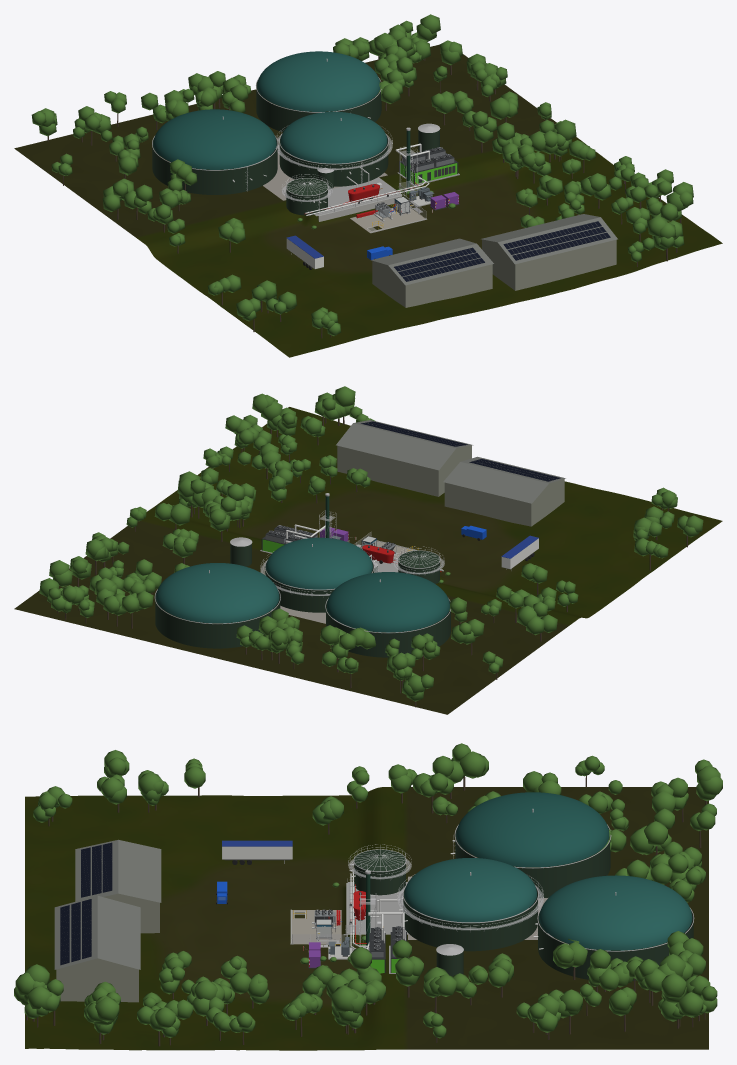
Rendered from bryn_blox.glb.
The picture shows the model from 3 angles, top to bottom: view 1: azimuth 30°, elevation 25°; view 2: azimuth 150°, elevation 25°; view 3: azimuth 270°, elevation 25°; orthographic projection. The views are drawn at different scales.
Visible parts, largest first — view 1: web_terrain, tank_c_dome, tank_b_dome, tank_main_dome, shed1_walls, shed0_walls, tank_b_wall, tank_main_wall, shed1_roofS, tank_c_wall, shed0_roofS, upper_slab (+6 smaller); view 2: web_terrain, tank_c_dome, tank_b_dome, tank_main_dome, shed1_walls, shed0_walls, shed1_roofN, tank_c_wall, shed0_roofN, tank_b_wall, tank_main_wall, tank_small_roof; view 3: web_terrain, tank_b_dome, tank_c_dome, tank_main_dome, tank_main_wall, shed1_roofN, shed0_roofN, shed1_walls, tank_b_wall, tank_c_wall, upper_slab, shed1_roofS (+13 smaller).
Part boxes in pixels (x1,y1,x2,y2): web_terrain: [14, 44, 722, 357]; tank_c_dome: [257, 51, 380, 111]; tank_b_dome: [153, 109, 276, 169]; tank_main_dome: [280, 111, 387, 163]; shed1_walls: [482, 239, 616, 290]; shed0_walls: [372, 260, 492, 307]; tank_b_wall: [152, 139, 277, 194]; tank_main_wall: [279, 136, 388, 186]; shed1_roofS: [498, 217, 617, 264]; tank_c_wall: [256, 81, 381, 132]; shed0_roofS: [388, 243, 493, 285]; upper_slab: [314, 177, 402, 216]; web_terrain: [14, 407, 722, 714]; tank_c_dome: [156, 563, 279, 623]; tank_b_dome: [327, 572, 449, 632]; tank_main_dome: [266, 537, 372, 589]; shed1_walls: [337, 445, 471, 496]; shed0_walls: [444, 479, 564, 526]; shed1_roofN: [336, 423, 455, 470]; tank_c_wall: [155, 592, 280, 648]; shed0_roofN: [443, 462, 548, 503]; tank_b_wall: [326, 601, 450, 657]; tank_main_wall: [265, 562, 373, 612]; tank_small_roof: [398, 550, 439, 567]; web_terrain: [25, 787, 708, 1050]; tank_b_dome: [456, 792, 609, 867]; tank_c_dome: [539, 875, 692, 950]; tank_main_dome: [404, 858, 536, 922]; tank_main_wall: [403, 888, 537, 951]; shed1_roofN: [97, 896, 140, 969]; shed0_roofN: [118, 840, 161, 902]; shed1_walls: [56, 969, 138, 1002]; tank_b_wall: [455, 828, 610, 898]; tank_c_wall: [538, 911, 693, 980]; upper_slab: [348, 882, 407, 934]; shed1_roofS: [54, 895, 97, 969].
Bounding box in the file's own units: 126 × 18.44 × 137.
